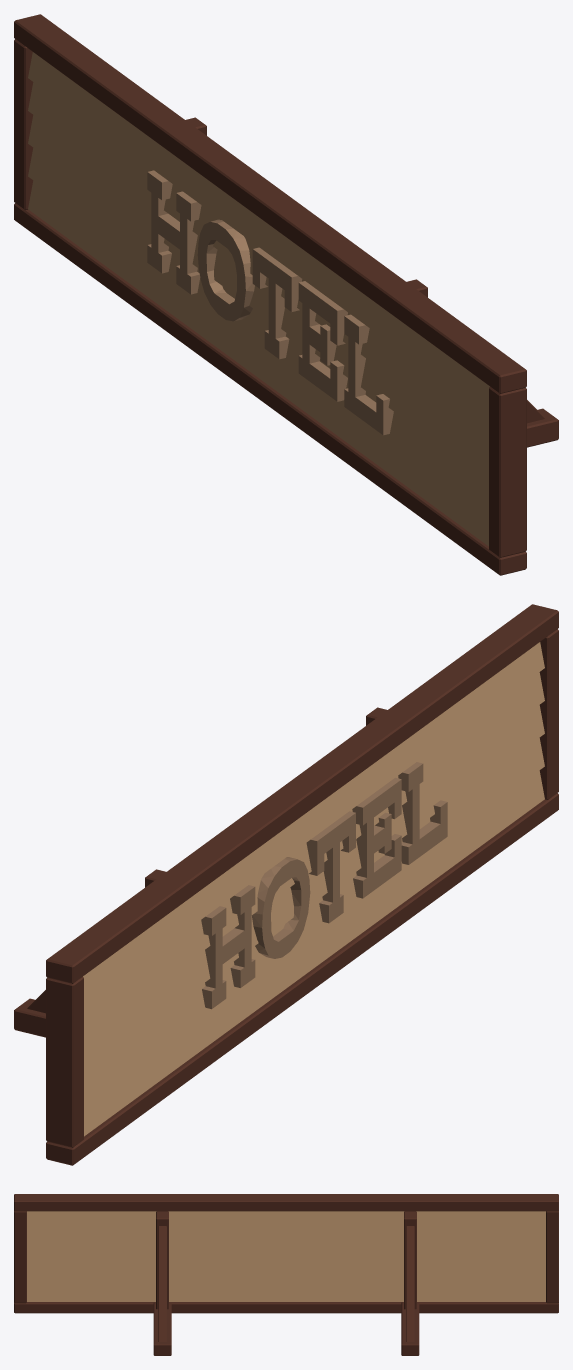
File: Hotel Sign A.glb
3 renders of one model, top to bottom at view 1: azimuth 30°, elevation 25°; view 2: azimuth 150°, elevation 25°; view 3: azimuth 270°, elevation 25°, orthographic. The views are drawn at different scales.
Parts seen in each view (by area): view 1: Hotel Sign A; view 2: Hotel Sign A; view 3: Hotel Sign A.
Boxes of the visible parts, x1,y1,x2,y2 form: Hotel Sign A: [14, 14, 558, 575]; Hotel Sign A: [14, 604, 558, 1165]; Hotel Sign A: [14, 1194, 558, 1355].
Bounding box in the file's own units: 146 × 150 × 660.
